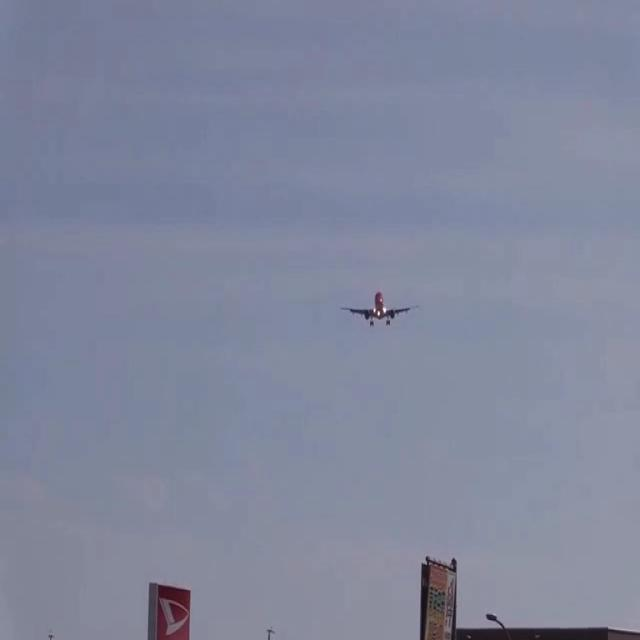AirPlane: (330, 274, 426, 339)
